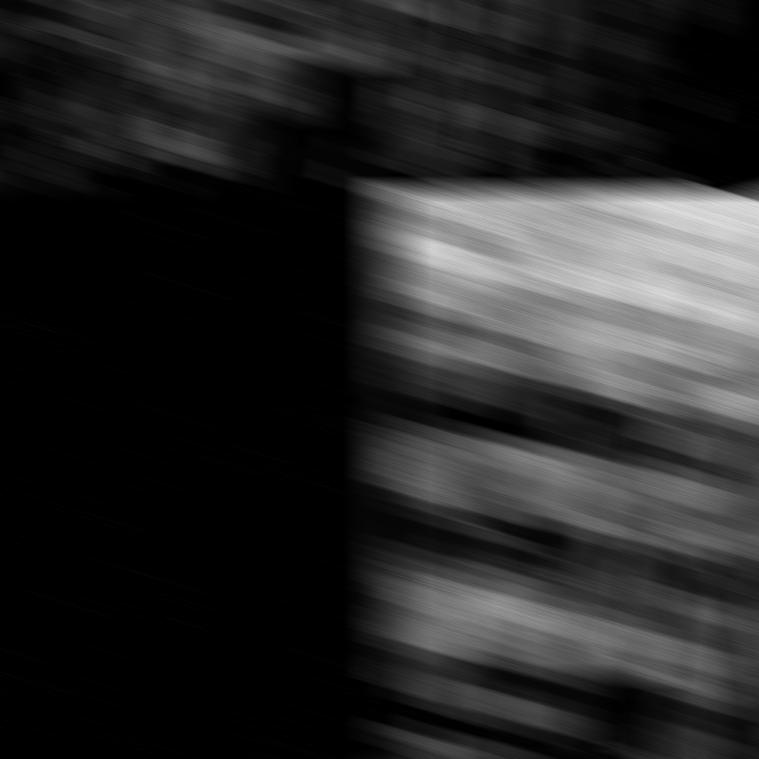AirbagV2: (0, 0, 397, 192), (376, 0, 759, 192)
